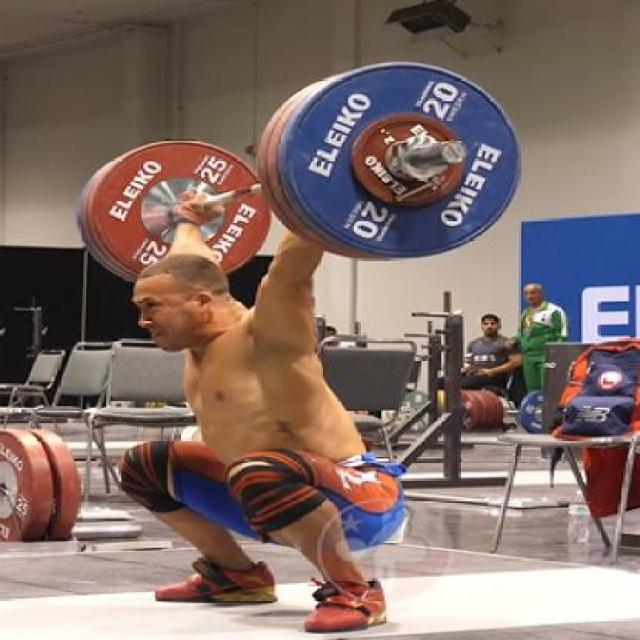Barbell: (440, 136, 471, 167)
